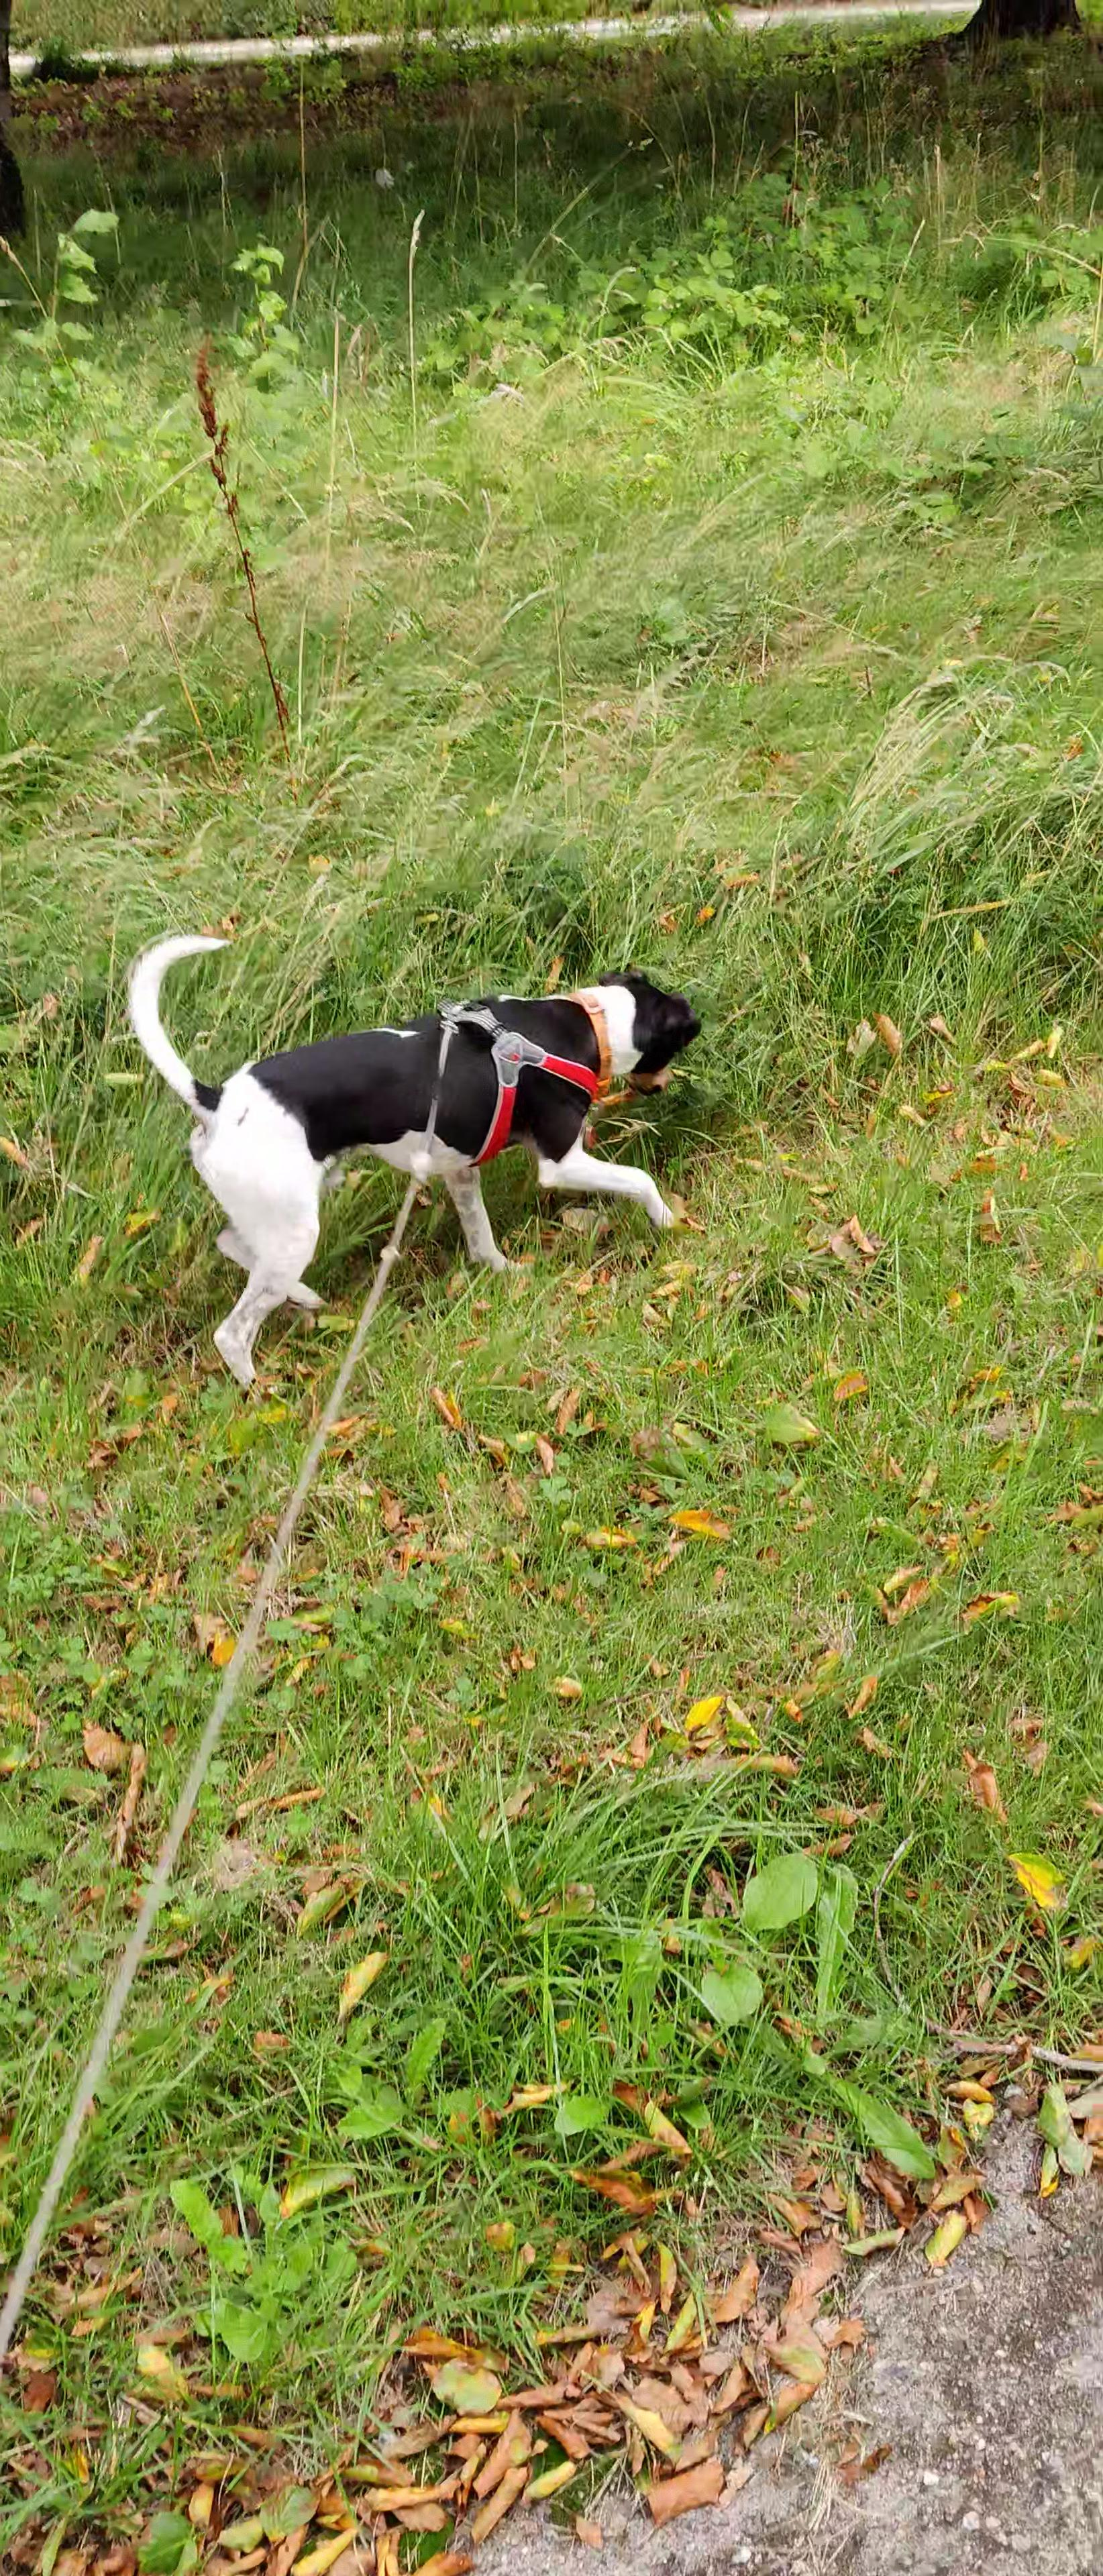Dog: (104, 900, 727, 1410)
